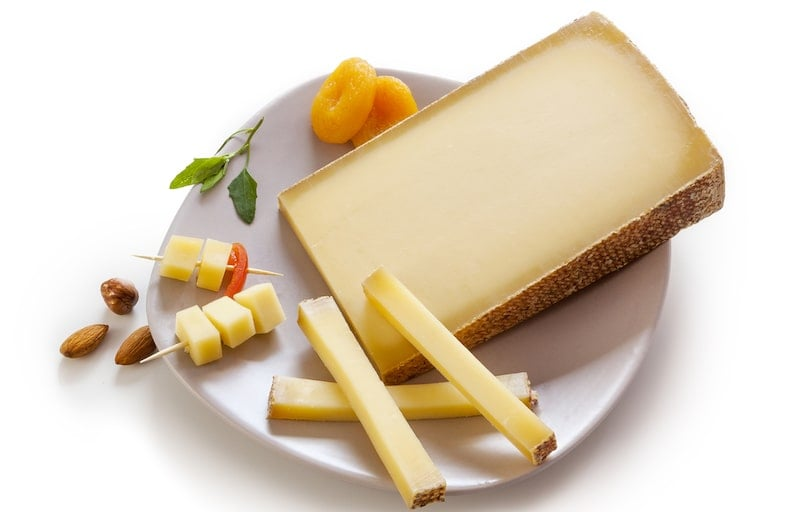cheese: (294, 11, 711, 386), (277, 266, 569, 480), (149, 237, 274, 360)
